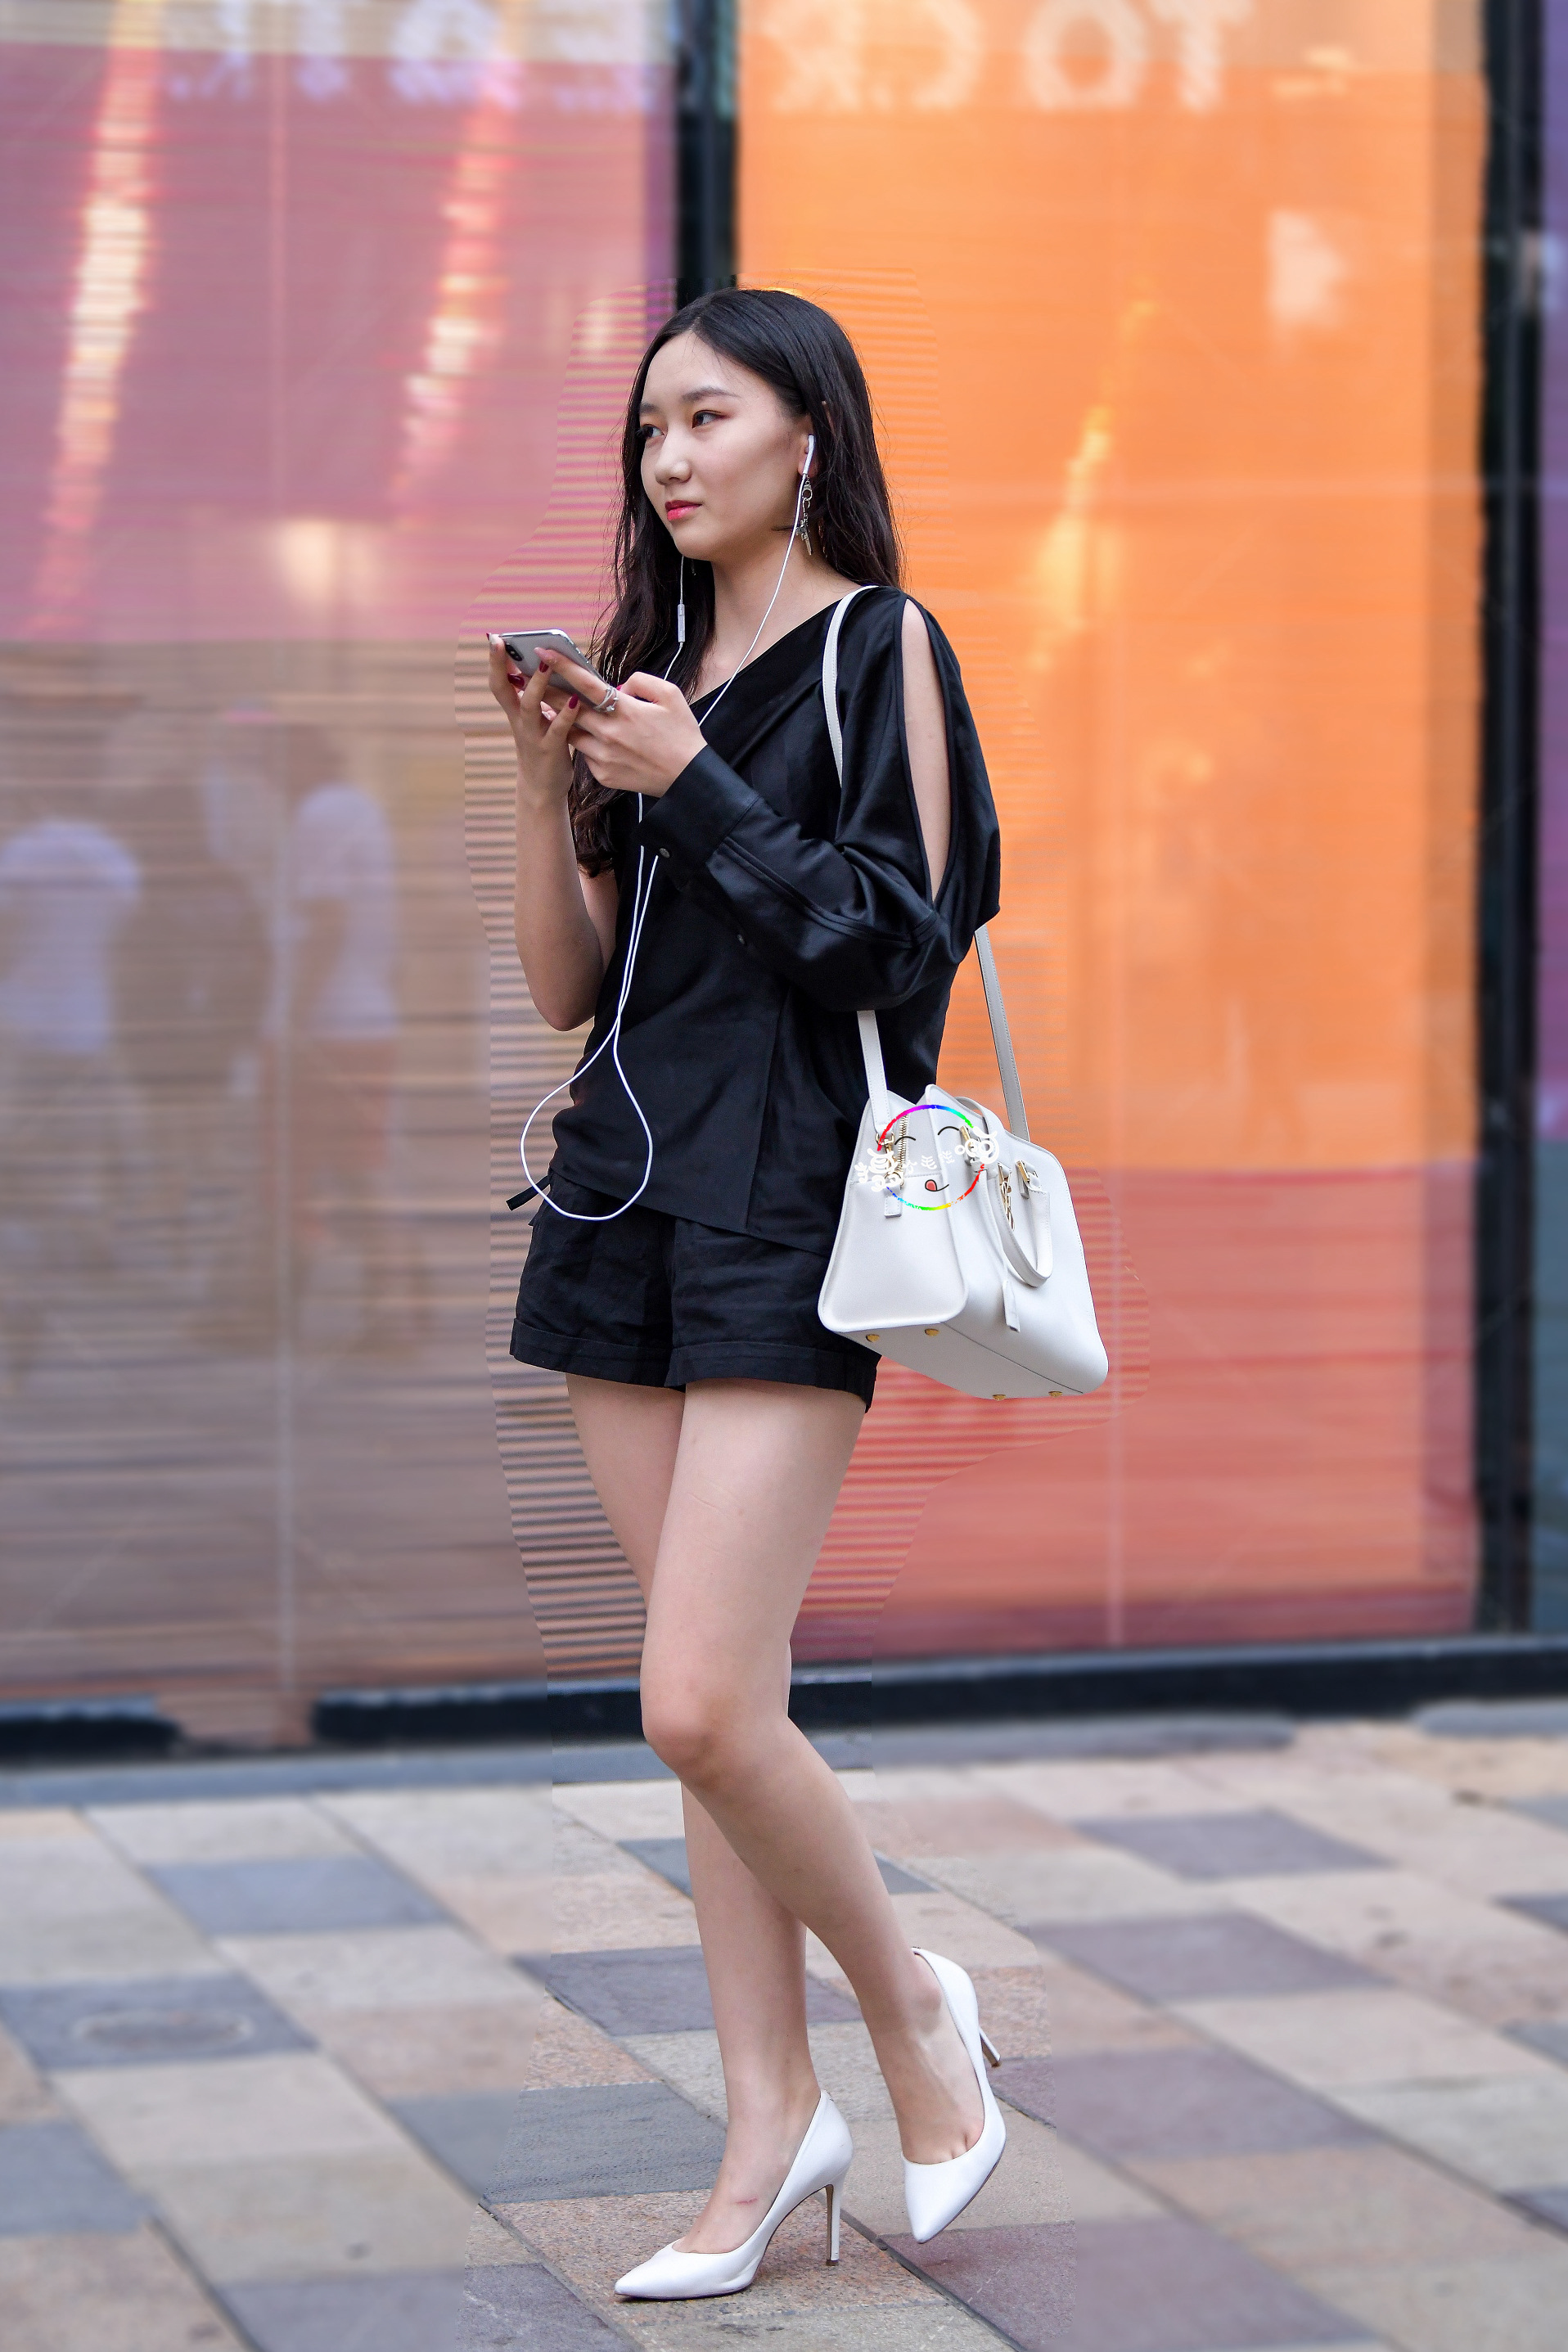person: (526, 298, 1153, 2096)
